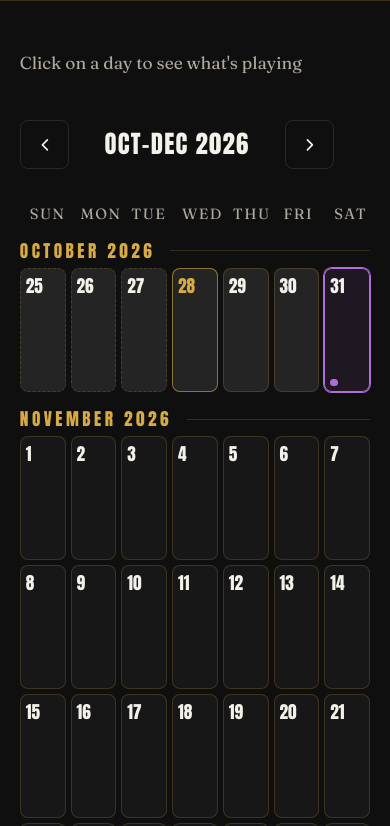
Test case: MonthCalendar with history › says "Ended" in the day panel and offers no button there either
Click the button named "Go to " at (45, 145), box [20,120,69,169]
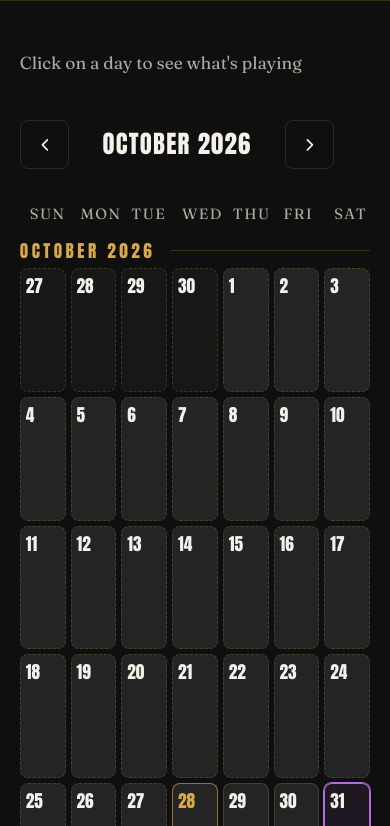
Click the button named "Go to " at (45, 145), box [20,120,69,169]
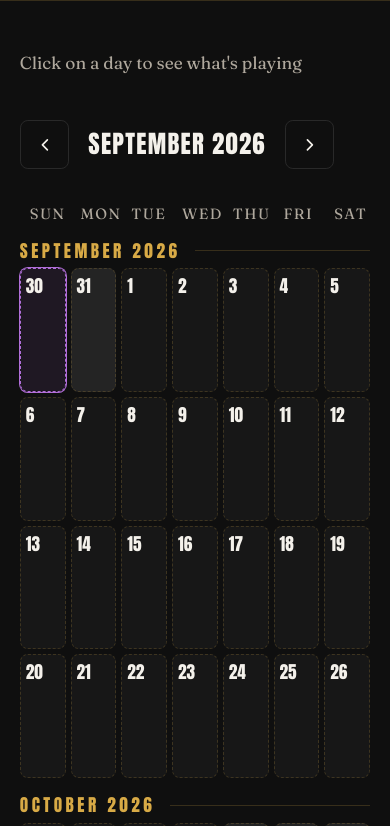
Click the button named "Go to " at (45, 145), box [20,120,69,169]
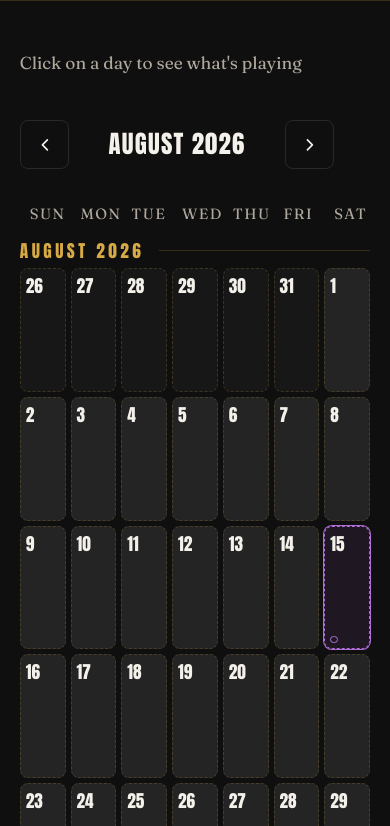
Click the button "15" at (343, 544), box [328,529,358,559]
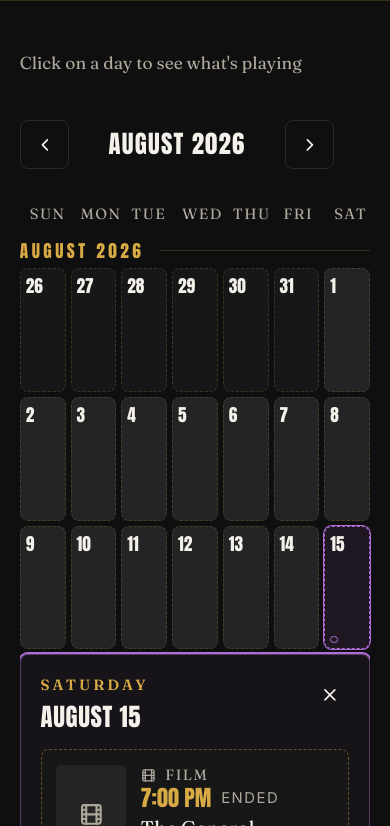
Check: the text "Ended" is shown, box [221,789,279,807]
